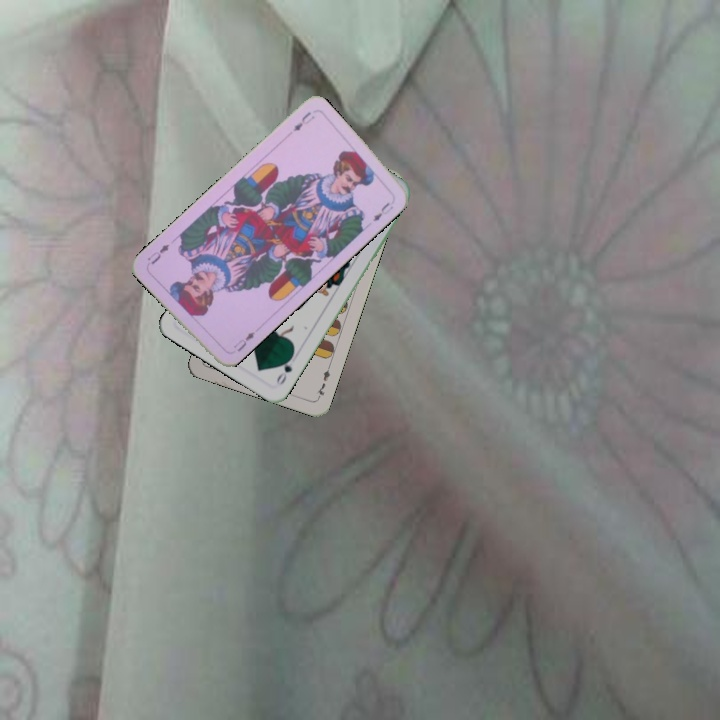E7: (313, 362, 333, 401)
EU: (229, 325, 260, 355), (289, 107, 317, 134)
GO: (272, 350, 296, 388)
